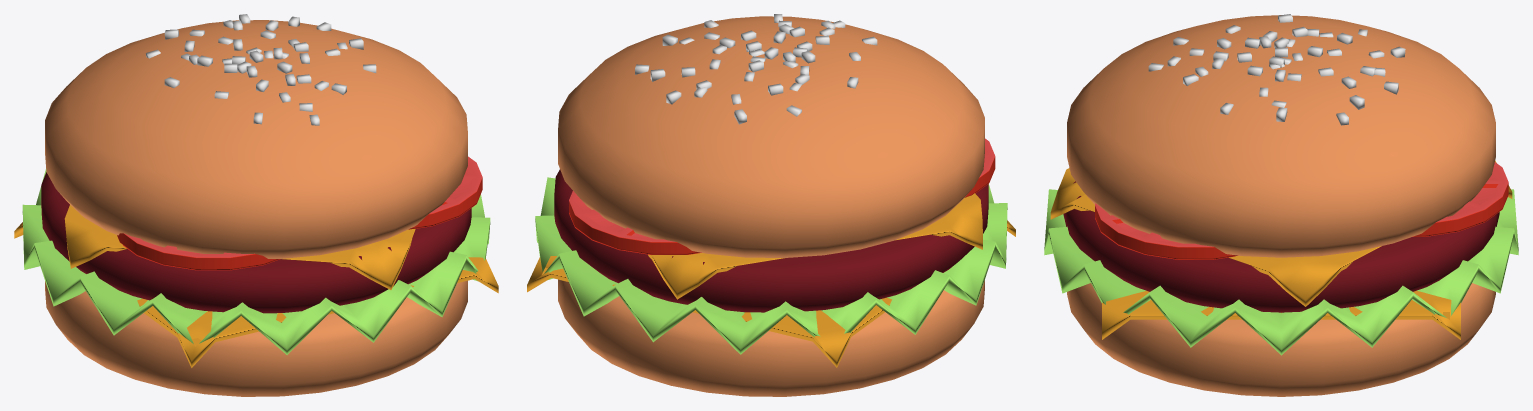
The model's file is Burger-Only.glb.
The picture shows the model from 3 angles, left to right: view 1: azimuth 30°, elevation 25°; view 2: azimuth 150°, elevation 25°; view 3: azimuth 270°, elevation 25°; orthographic projection.
Visible parts, largest first — view 1: Cylinder.001, Cylinder, Cylinder.002, Cylinder.003, Cube.001, Cube, Cylinder.007, Cylinder.005; view 2: Cylinder.001, Cylinder, Cylinder.002, Cylinder.003, Cube.001, Cube, Cylinder.006, Cylinder.007; view 3: Cylinder.001, Cylinder, Cylinder.002, Cylinder.003, Cube.001, Cube, Cylinder.005, Cylinder.006.
Part boxes in pixels (left/top/right/bottom): Cylinder.001: left=45, top=20, right=467, bottom=258; Cylinder: left=45, top=280, right=467, bottom=396; Cylinder.002: left=41, top=172, right=471, bottom=313; Cylinder.003: left=22, top=169, right=490, bottom=354; Cube.001: left=64, top=205, right=415, bottom=289; Cube: left=14, top=222, right=498, bottom=367; Cylinder.007: left=117, top=233, right=280, bottom=270; Cylinder.005: left=408, top=156, right=482, bottom=229; Cylinder.001: left=558, top=16, right=984, bottom=257; Cylinder: left=558, top=279, right=984, bottom=396; Cylinder.002: left=554, top=169, right=988, bottom=312; Cylinder.003: left=535, top=177, right=1007, bottom=354; Cube.001: left=648, top=193, right=982, bottom=299; Cube: left=527, top=220, right=1015, bottom=367; Cylinder.006: left=569, top=191, right=701, bottom=254; Cylinder.007: left=964, top=138, right=995, bottom=197; Cylinder.001: left=1067, top=15, right=1495, bottom=257; Cylinder: left=1067, top=283, right=1495, bottom=396; Cylinder.002: left=1063, top=181, right=1499, bottom=312; Cylinder.003: left=1044, top=189, right=1518, bottom=355; Cube.001: left=1050, top=160, right=1512, bottom=306; Cube: left=1102, top=290, right=1460, bottom=339; Cylinder.005: left=1095, top=203, right=1237, bottom=259; Cylinder.006: left=1412, top=162, right=1508, bottom=236.
Size of the model in its own units: 2.21 by 1.35 by 2.21.
